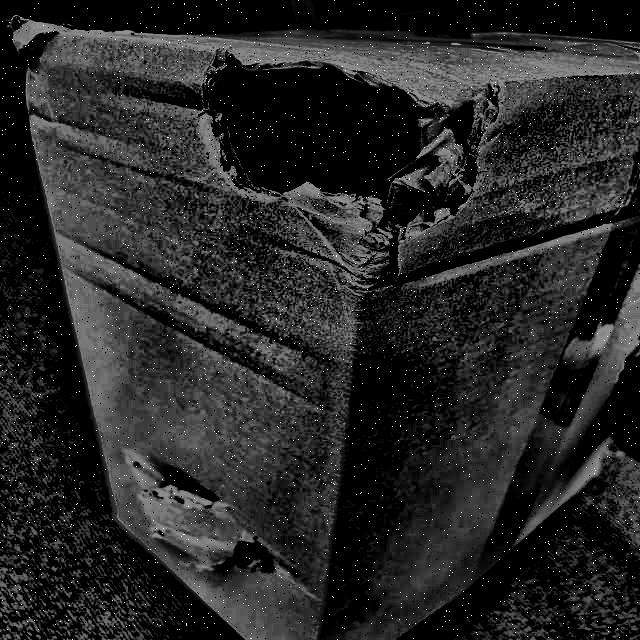box: (0, 0, 640, 640)
hole: (204, 54, 494, 236), (100, 439, 227, 518), (230, 540, 275, 575)
